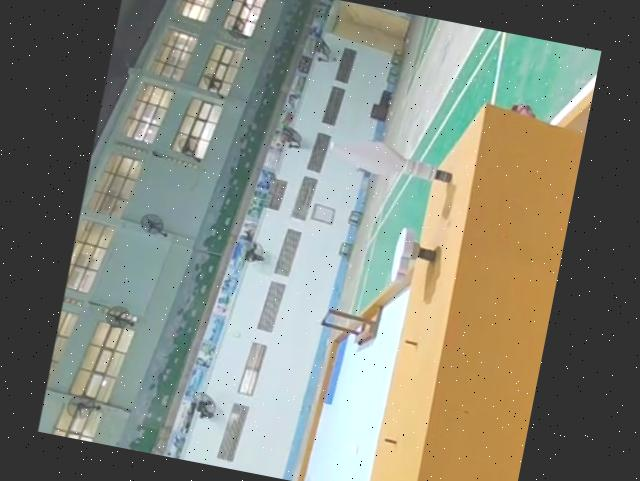Hand: (385, 227, 444, 291)
Sph: (321, 128, 461, 193)
